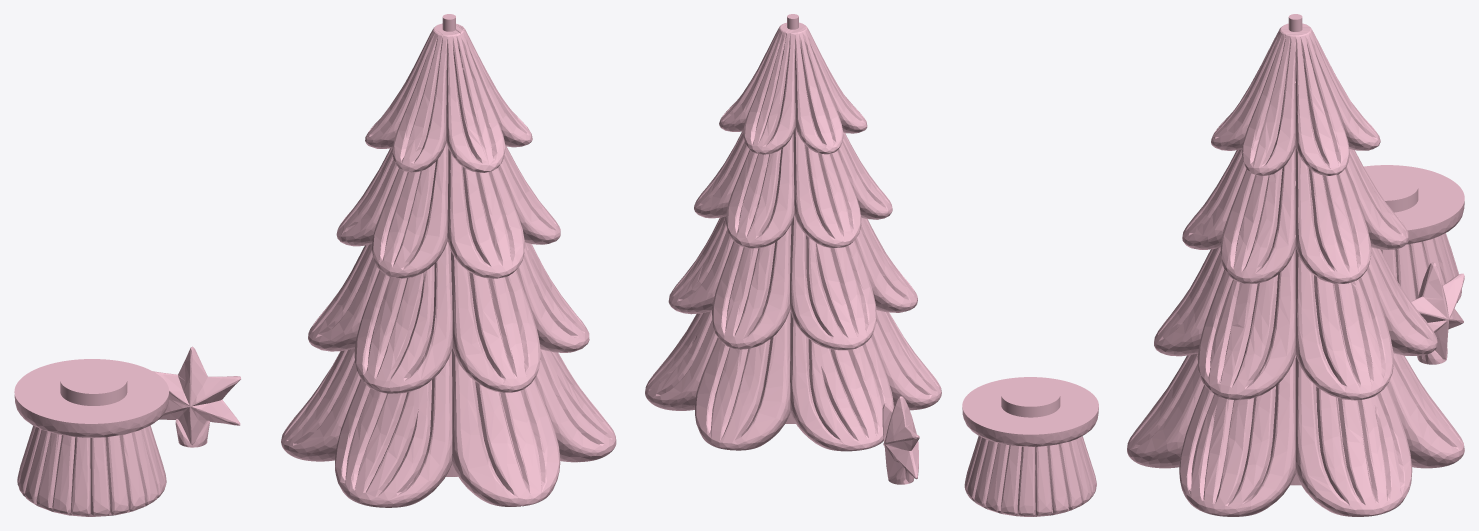
File: arbolitos-navidad-japandi.glb
3 renders of one model, left to right at view 1: azimuth 30°, elevation 25°; view 2: azimuth 150°, elevation 25°; view 3: azimuth 270°, elevation 25°, orthographic. The views are drawn at different scales.
Parts seen in each view (by area): view 1: pieza; view 2: pieza; view 3: pieza.
Boxes of the visible parts, x1=… form: pieza: x1=14, y1=14, x2=616, y2=516; pieza: x1=645, y1=14, x2=1098, y2=516; pieza: x1=1127, y1=14, x2=1464, y2=516.
Bounding box in the file's own units: 0.1324 × 0.1058 × 0.0743.
